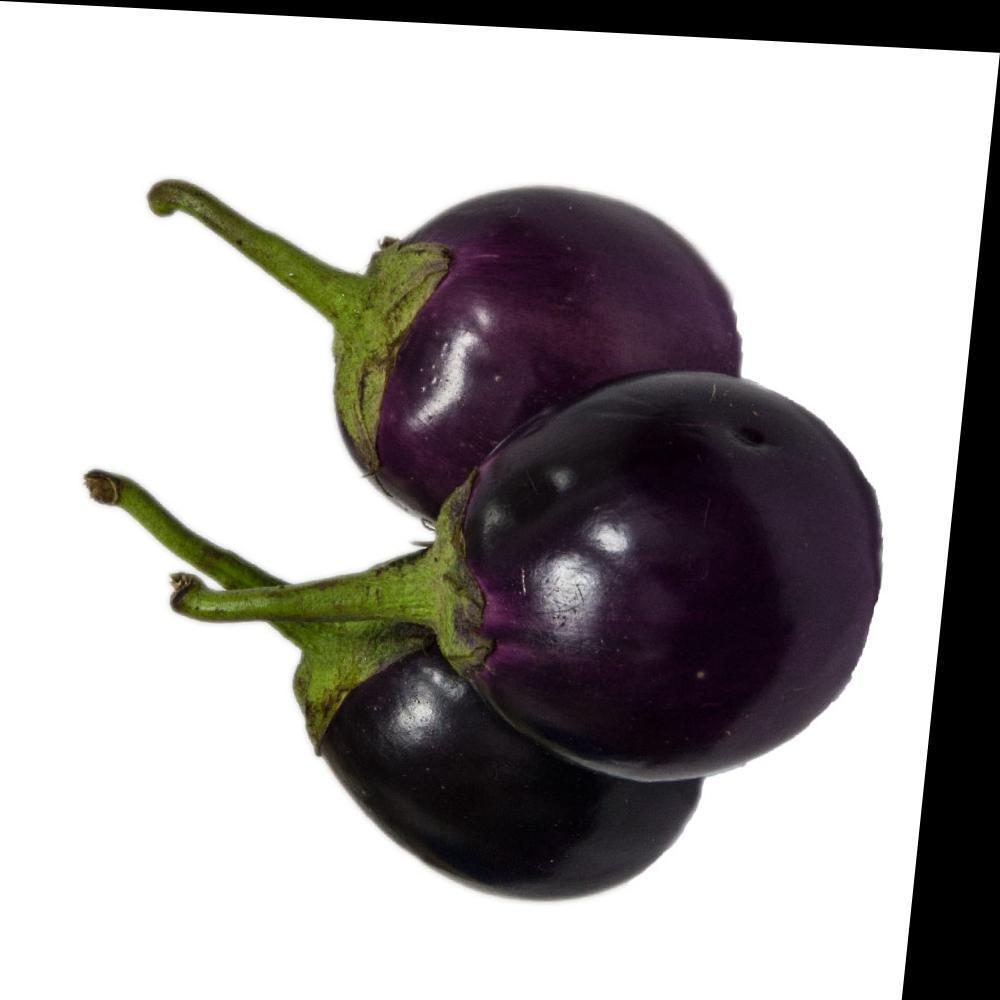eggplant: (225, 332, 912, 943), (113, 99, 810, 692)
